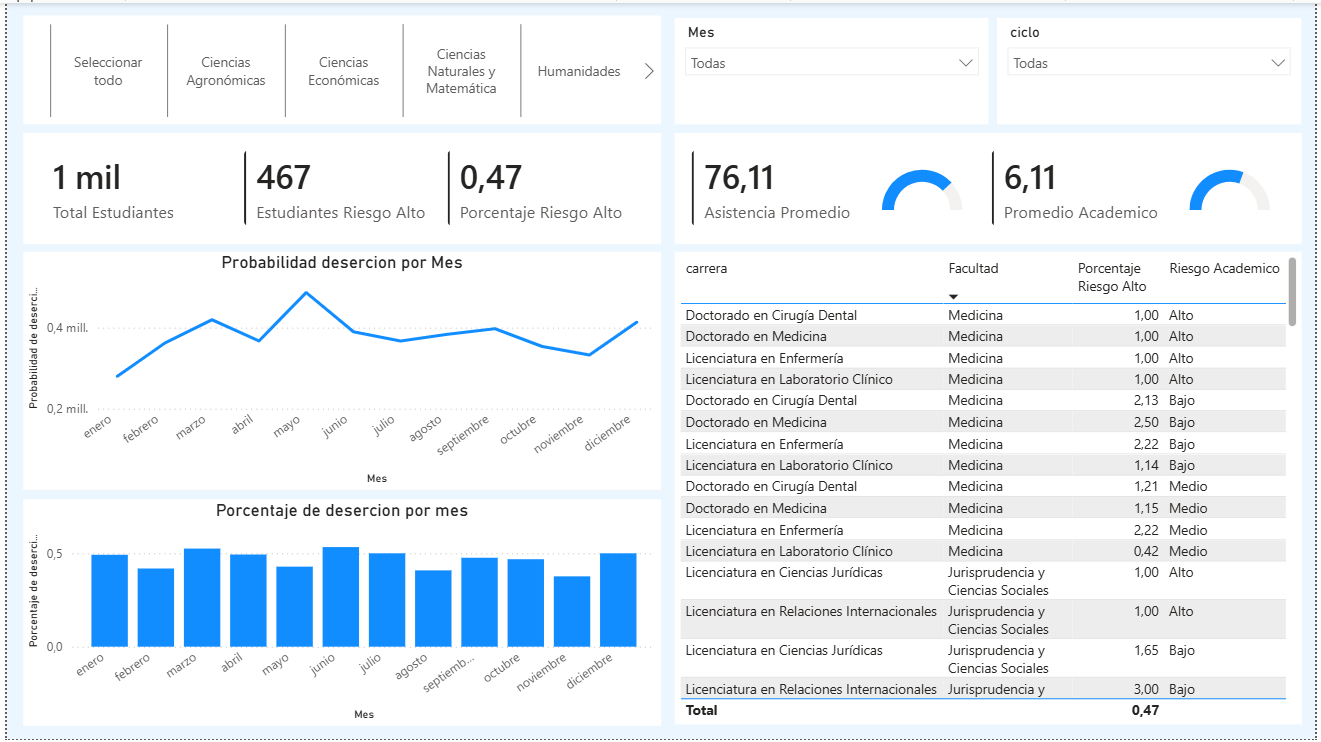

What the dashboard file says about the page in this screenshot:
{"tool":"powerbi","page":{"name":"Página 1","canvas":[1280,720],"ordinal":0},"visuals":[{"type":"cardVisual","fields":{"Data":["dataset_limpio_Proyecto_EdTech_Learning_Analytics (2).Total Estudiantes","dataset_limpio_Proyecto_EdTech_Learning_Analytics (2).Estudiantes Riesgo Alto","dataset_limpio_Proyecto_EdTech_Learning_Analytics (2).Porcentaje Riesgo Alto"]},"box":[16.2,127.5,623.8,108.8],"z":0},{"type":"lineChart","title":"Probabilidad desercion por Mes","fields":{"Category":["dataset_limpio_Proyecto_EdTech_Learning_Analytics (2).fecha_nacimiento.Variación.Jerarquía de fechas.Mes"],"Y":["Sum(dataset_limpio_Proyecto_EdTech_Learning_Analytics (2).probabilidad_desercion)"]},"box":[16.2,243.8,623.8,232.5],"z":1000},{"type":"columnChart","title":"Porcentaje de desercion por mes","fields":{"Category":["dataset_limpio_Proyecto_EdTech_Learning_Analytics (2).fecha_nacimiento.Variación.Jerarquía de fechas.Mes"],"Y":["dataset_limpio_Proyecto_EdTech_Learning_Analytics (2).Porcentaje Riesgo Alto"]},"box":[16.2,485,623.8,221.2],"z":2000},{"type":"tableEx","fields":{"Values":["dataset_limpio_Proyecto_EdTech_Learning_Analytics (2).carrera","dataset_limpio_Proyecto_EdTech_Learning_Analytics (2).facultad","dataset_limpio_Proyecto_EdTech_Learning_Analytics (2).Porcentaje Riesgo Alto","dataset_limpio_Proyecto_EdTech_Learning_Analytics (2).riesgo_academico"]},"box":[652.5,243.8,613.8,462.5],"z":3000},{"type":"cardVisual","fields":{"Data":["dataset_limpio_Proyecto_EdTech_Learning_Analytics (2).Asistencia Promedio","dataset_limpio_Proyecto_EdTech_Learning_Analytics (2).Promedio Academico"]},"box":[652.5,127.5,613.8,108.8],"z":4000},{"type":"gauge","fields":{"Y":["dataset_limpio_Proyecto_EdTech_Learning_Analytics (2).Asistencia Promedio"],"MinValue":["dataset_limpio_Proyecto_EdTech_Learning_Analytics (2).Minimo Asistencia"],"MaxValue":["dataset_limpio_Proyecto_EdTech_Learning_Analytics (2).Maximo Asistencia"]},"box":[851.2,143.8,88.8,77.5],"z":5000},{"type":"gauge","fields":{"Y":["dataset_limpio_Proyecto_EdTech_Learning_Analytics (2).Promedio Academico"],"MaxValue":["dataset_limpio_Proyecto_EdTech_Learning_Analytics (2).Maximo Academico"],"MinValue":["dataset_limpio_Proyecto_EdTech_Learning_Analytics (2).Minimo Academico"]},"box":[1152.5,143.8,88.8,77.5],"z":6000},{"type":"slicer","fields":{"Values":["dataset_limpio_Proyecto_EdTech_Learning_Analytics (2).facultad"]},"box":[16.2,12.5,623.8,106.2],"z":7000},{"type":"slicer","fields":{"Values":["dataset_limpio_Proyecto_EdTech_Learning_Analytics (2).ciclo"]},"box":[968.8,15,297.5,103.8],"z":8000},{"type":"slicer","fields":{"Values":["dataset_limpio_Proyecto_EdTech_Learning_Analytics (2).fecha_nacimiento.Variación.Jerarquía de fechas.Mes"]},"box":[652.5,15,307.5,103.8],"z":9000}]}

Visuals, with their boxes in screenshot pixels (x1, y1, x2, y2), scaled from the page's 1280x720 canvas onto the 1321x742 screenshot:
cardVisual - dataset_limpio_Proyecto_EdTech_Learning_Analytics (2).Total Estudiantes x dataset_limpio_Proyecto_EdTech_Learning_Analytics (2).Estudiantes Riesgo Alto: crop(17, 131, 660, 244)
"Probabilidad desercion por Mes" lineChart: crop(17, 251, 660, 491)
"Porcentaje de desercion por mes" columnChart: crop(17, 500, 660, 728)
tableEx - dataset_limpio_Proyecto_EdTech_Learning_Analytics (2).carrera x dataset_limpio_Proyecto_EdTech_Learning_Analytics (2).facultad: crop(673, 251, 1307, 728)
cardVisual - dataset_limpio_Proyecto_EdTech_Learning_Analytics (2).Asistencia Promedio x dataset_limpio_Proyecto_EdTech_Learning_Analytics (2).Promedio Academico: crop(673, 131, 1307, 244)
gauge - dataset_limpio_Proyecto_EdTech_Learning_Analytics (2).Asistencia Promedio x dataset_limpio_Proyecto_EdTech_Learning_Analytics (2).Minimo Asistencia: crop(878, 148, 970, 228)
gauge - dataset_limpio_Proyecto_EdTech_Learning_Analytics (2).Promedio Academico x dataset_limpio_Proyecto_EdTech_Learning_Analytics (2).Maximo Academico: crop(1189, 148, 1281, 228)
slicer - dataset_limpio_Proyecto_EdTech_Learning_Analytics (2).facultad: crop(17, 13, 660, 122)
slicer - dataset_limpio_Proyecto_EdTech_Learning_Analytics (2).ciclo: crop(1000, 15, 1307, 122)
slicer - dataset_limpio_Proyecto_EdTech_Learning_Analytics (2).fecha_nacimiento.Variación.Jerarquía de fechas.Mes: crop(673, 15, 991, 122)
